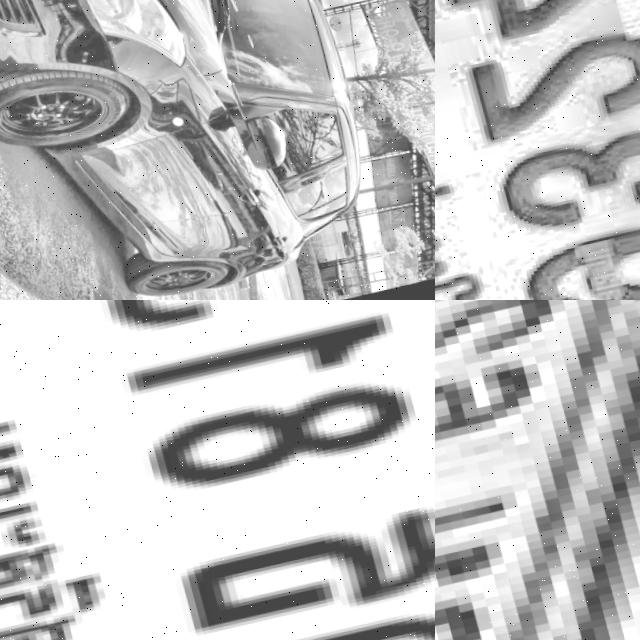license-plate: (0, 300, 435, 640), (435, 300, 640, 640), (435, 0, 640, 300)
